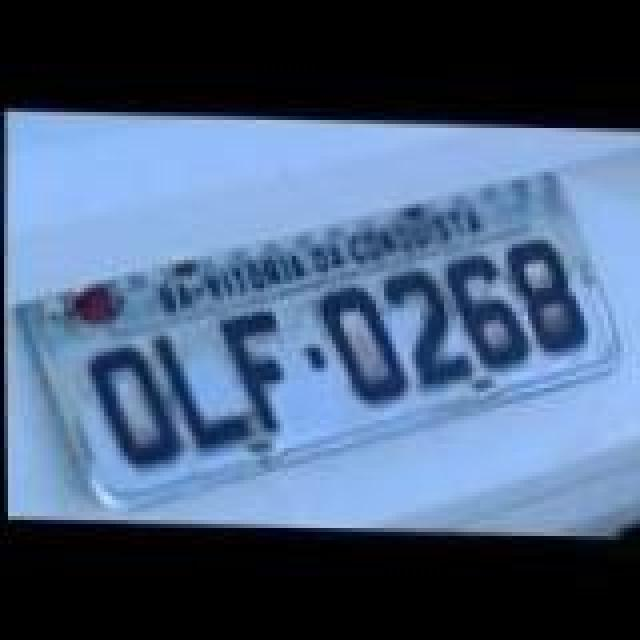2: (378, 264, 478, 388)
6: (448, 252, 536, 372)
8: (504, 228, 592, 352)
F: (216, 302, 288, 434)
L: (156, 332, 256, 452)
O: (82, 342, 178, 470), (314, 284, 414, 404)
